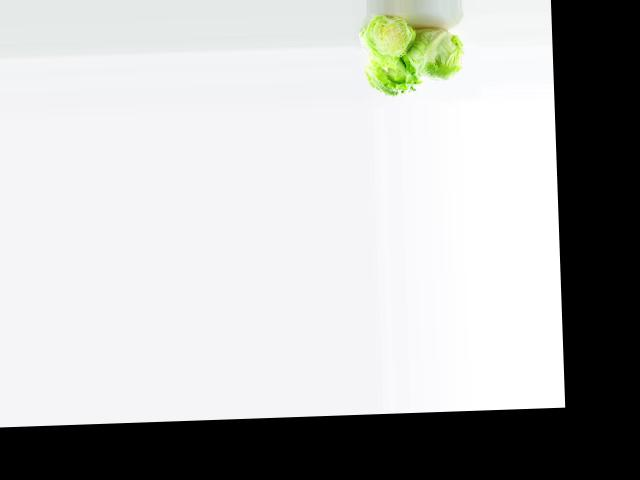lettuce: (363, 51, 425, 101)
